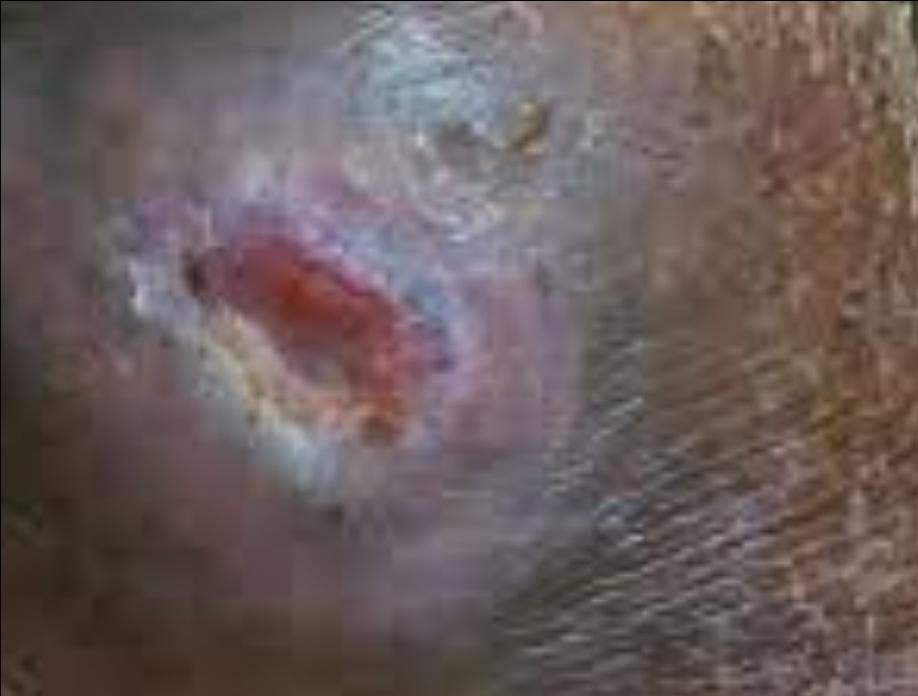Stage2: (109, 170, 484, 509)
